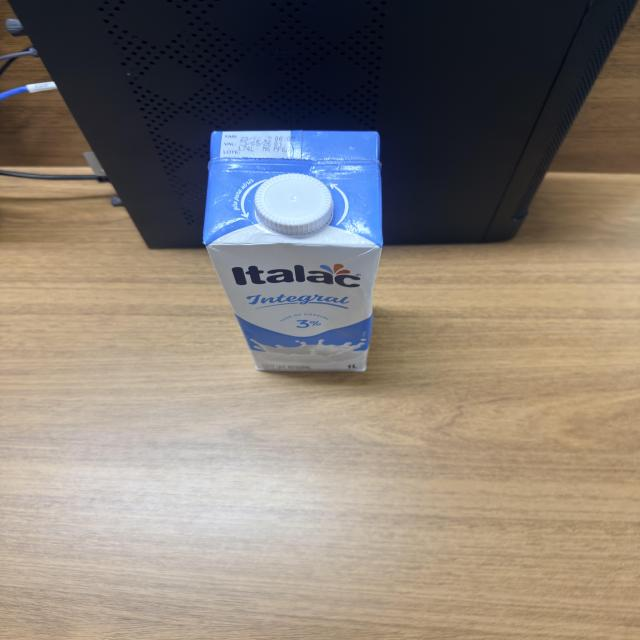Caixa de Leite: (201, 131, 386, 370)
